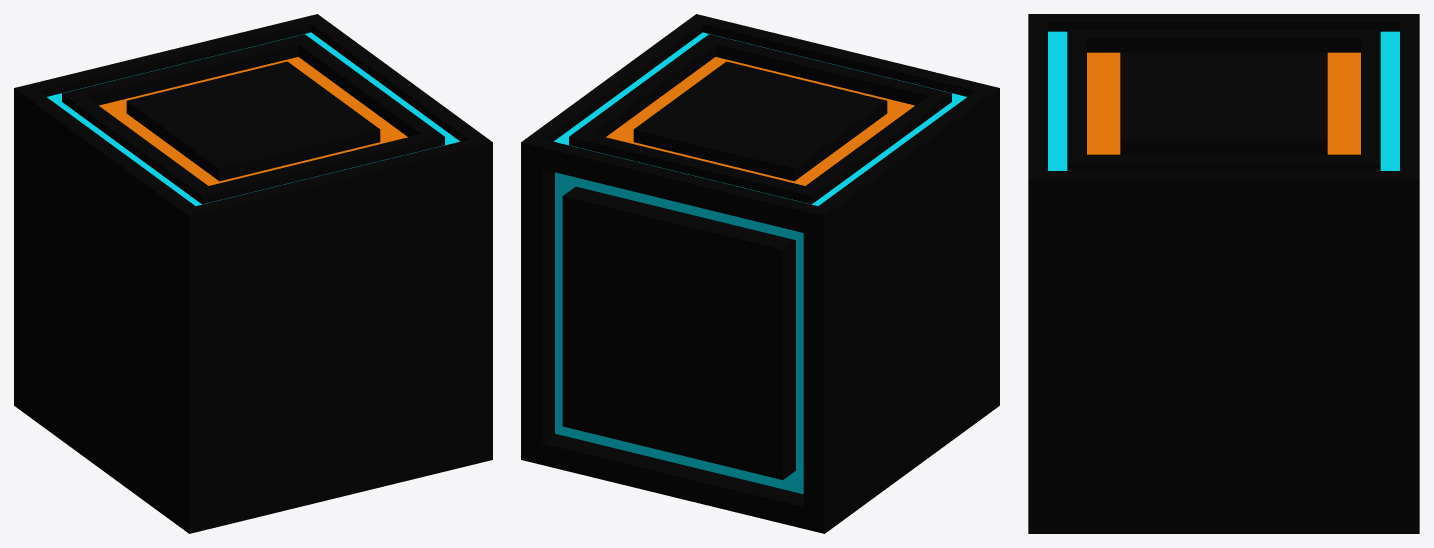
Rendered from audioBlock.fbx.
3 renders of one model, left to right at view 1: azimuth 30°, elevation 25°; view 2: azimuth 150°, elevation 25°; view 3: azimuth 270°, elevation 25°, orthographic. The views are drawn at different scales.
Parts seen in each view (by area): view 1: pCube2; view 2: pCube2; view 3: pCube2.
Boxes of the visible parts, box(x1,y1,x2,y2) form: pCube2: box(14, 14, 492, 533); pCube2: box(521, 14, 999, 533); pCube2: box(1028, 14, 1419, 533).
Bounding box in the file's own units: 1 × 1 × 1.
